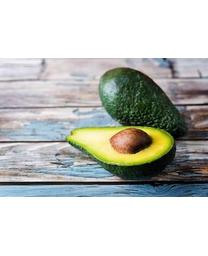avocado: (98, 67, 189, 142), (65, 125, 176, 180)
